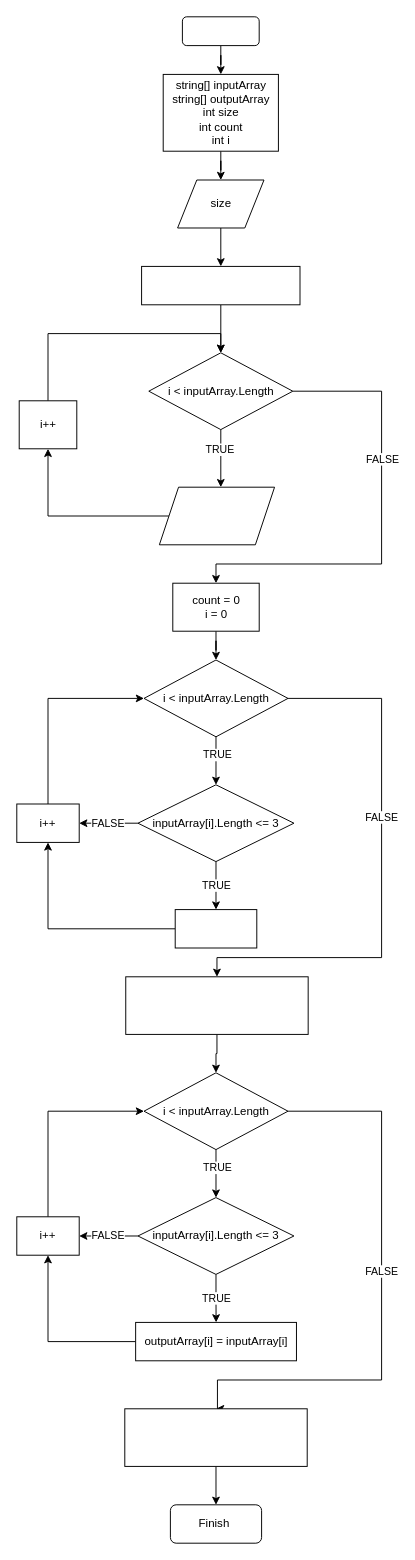
Image size: 415x1560. Some labels were removed from this diagram. The box of each missing label's shape, as (x1, y1, x2, y2) in pixels:
count++: (174, 909, 257, 948)
inputArray = inputArray [size] i = 0: (141, 265, 300, 305)
inputArray[i]: (158, 486, 275, 545)
outputArray = outputArray[count] i = 0: (125, 976, 308, 1034)
PrintArray(inputArray) PrintArray(outputArray): (124, 1408, 307, 1466)
Start: (181, 16, 259, 46)
